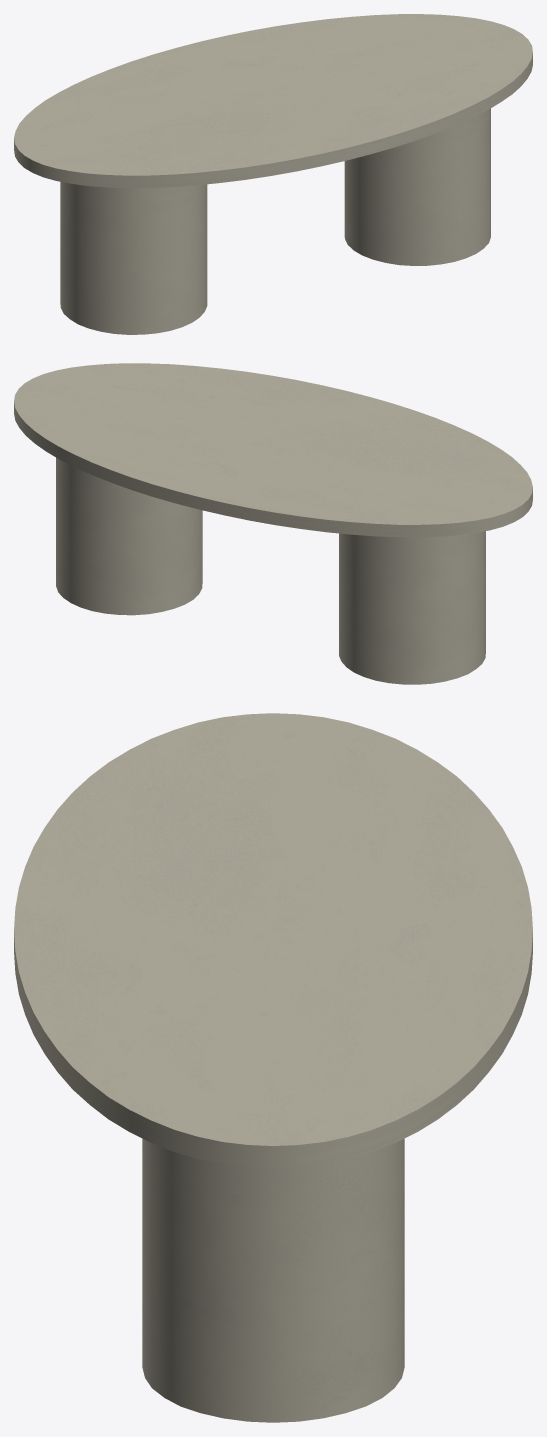
Rendered from silk_ellips_standard_stream.glb.
3 renders of one model, top to bottom at view 1: azimuth 30°, elevation 25°; view 2: azimuth 150°, elevation 25°; view 3: azimuth 270°, elevation 25°, orthographic. The views are drawn at different scales.
Visible parts, largest first — view 1: silk_ellipsstandard_stream; view 2: silk_ellipsstandard_stream; view 3: silk_ellipsstandard_stream.
Part boxes in pixels (x1=…): silk_ellipsstandard_stream: x1=14, y1=14, x2=532, y2=334; silk_ellipsstandard_stream: x1=14, y1=363, x2=532, y2=684; silk_ellipsstandard_stream: x1=14, y1=713, x2=532, y2=1422.
Bounding box in the file's own units: 7.5 × 2.52 × 3.8.
1 material, 1 textured.
